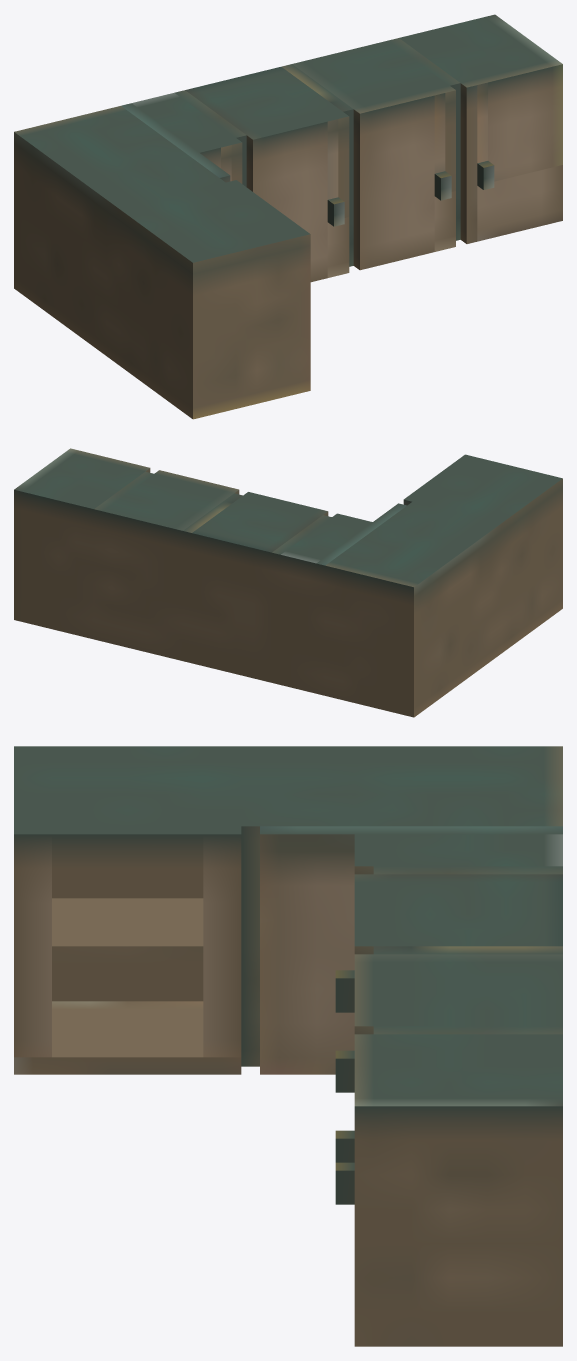
Rendered from CabinetLShaped_00.fbx.
The picture shows the model from 3 angles, top to bottom: view 1: azimuth 30°, elevation 25°; view 2: azimuth 150°, elevation 25°; view 3: azimuth 270°, elevation 25°; orthographic projection. The views are drawn at different scales.
Parts seen in each view (by area): view 1: CabinetLShaped_00; view 2: CabinetLShaped_00; view 3: CabinetLShaped_00.
Part boxes in pixels (bbox=[...]): CabinetLShaped_00: bbox=[14, 14, 562, 419]; CabinetLShaped_00: bbox=[14, 448, 562, 717]; CabinetLShaped_00: bbox=[14, 746, 562, 1346].
Size of the model in its own units: 225 by 145 by 70.
Materials: 1 (1 with a texture image).
